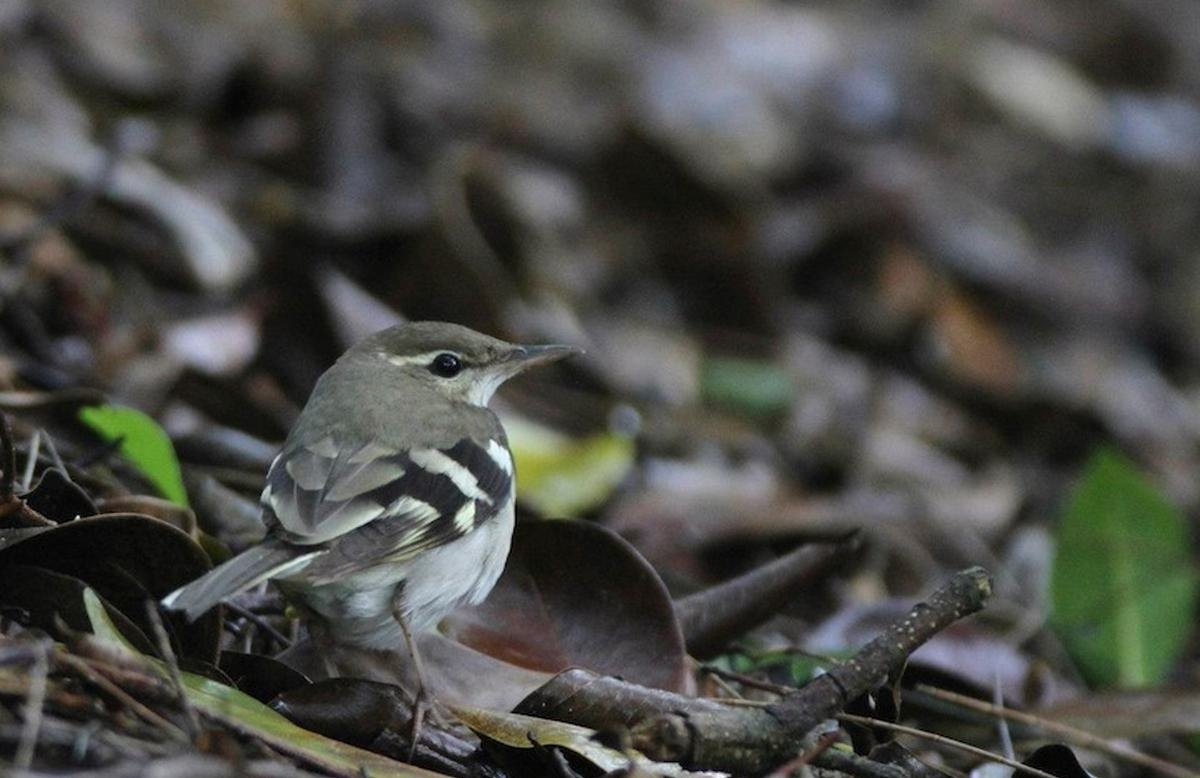wagtail: (268, 319, 564, 711)
